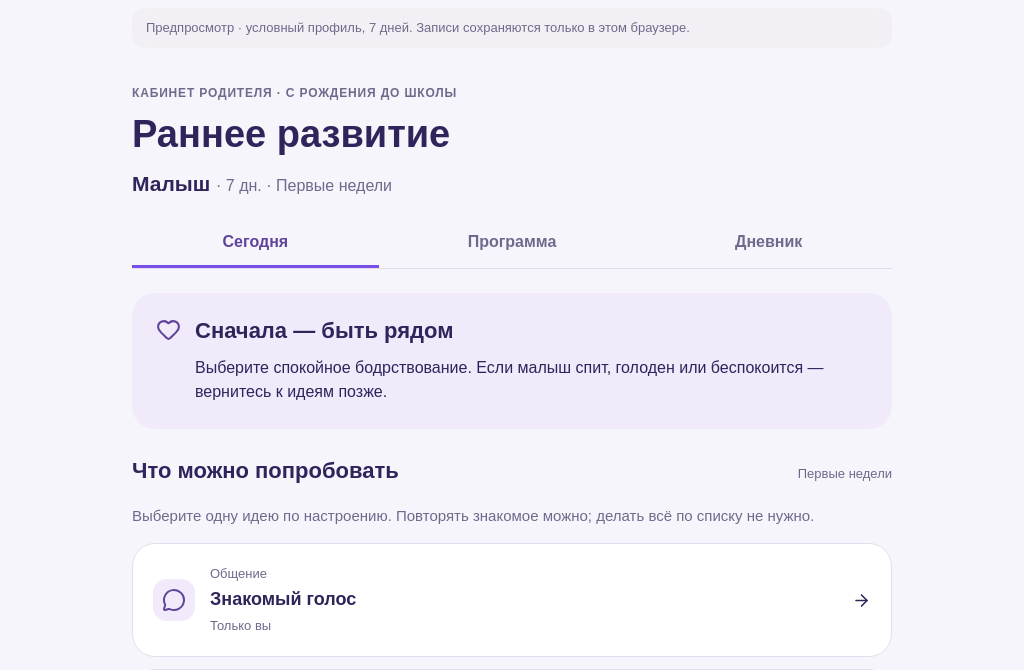
it: parent early development preview › shows age-stage activities separately from clinical screening
Click the button "Программа".
click(512, 244)  # box 389,220 -> 635,268
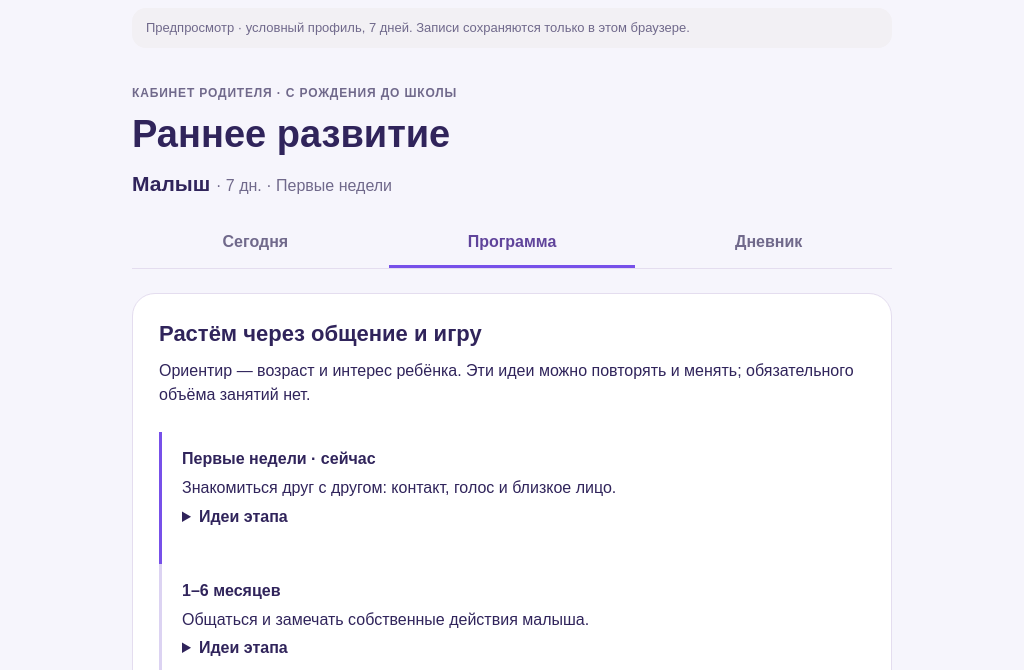
Now the text "Первые недели · сейчас" is shown, box 182,450 -> 376,467
